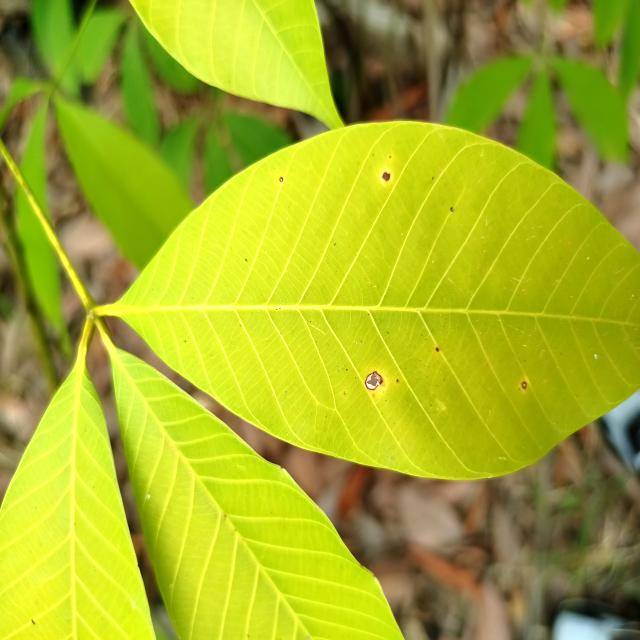Colletotrichum: (365, 371, 382, 390), (522, 382, 527, 389), (280, 177, 284, 182)
